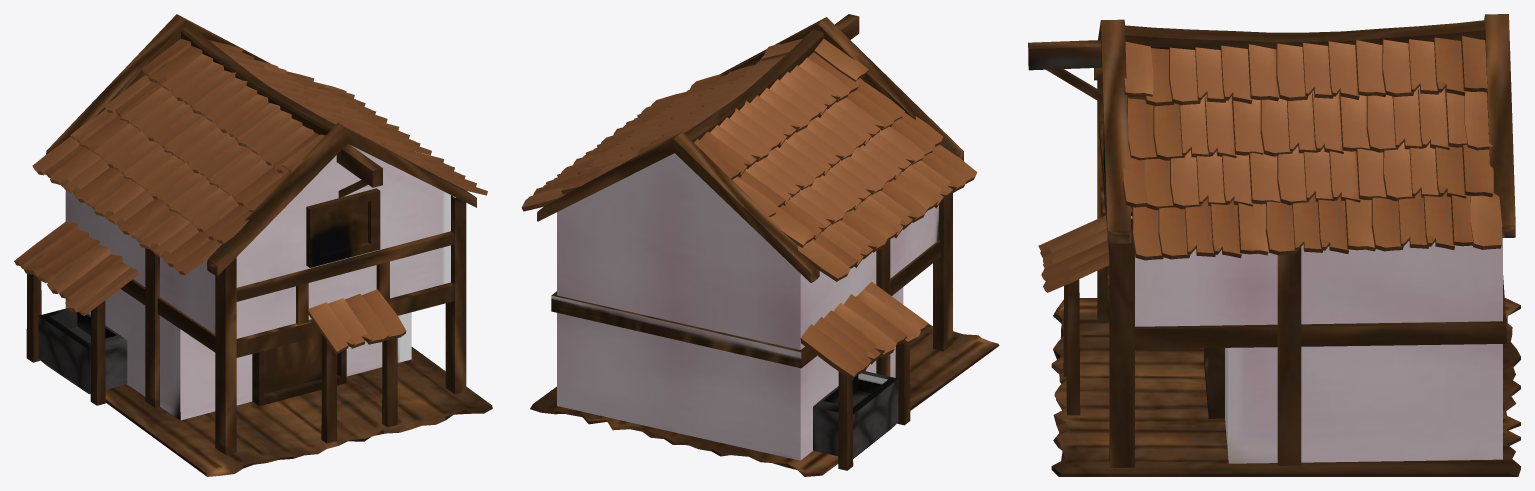
The model's file is House_Kambin4.fbx.
3 views of the same model, side by side, from view 1: azimuth 30°, elevation 25°; view 2: azimuth 150°, elevation 25°; view 3: azimuth 270°, elevation 25° (orthographic). The views are drawn at different scales.
Parts seen in each view (by area): view 1: LOD_0; view 2: LOD_0; view 3: LOD_0.
Boxes of the visible parts, x1,y1,x2,y2 form: LOD_0: (14, 14, 492, 476); LOD_0: (521, 14, 999, 476); LOD_0: (1028, 14, 1520, 476).
Size of what is drawn, in the model's own units: 233 by 195 by 230.
